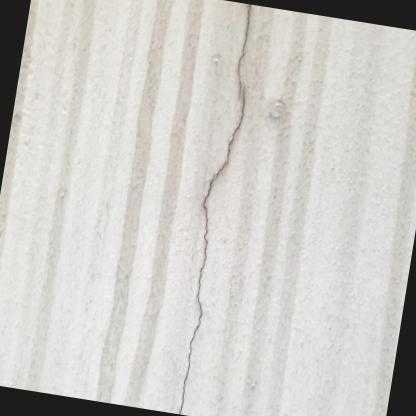crack: (177, 86, 245, 414), (235, 4, 252, 98)
